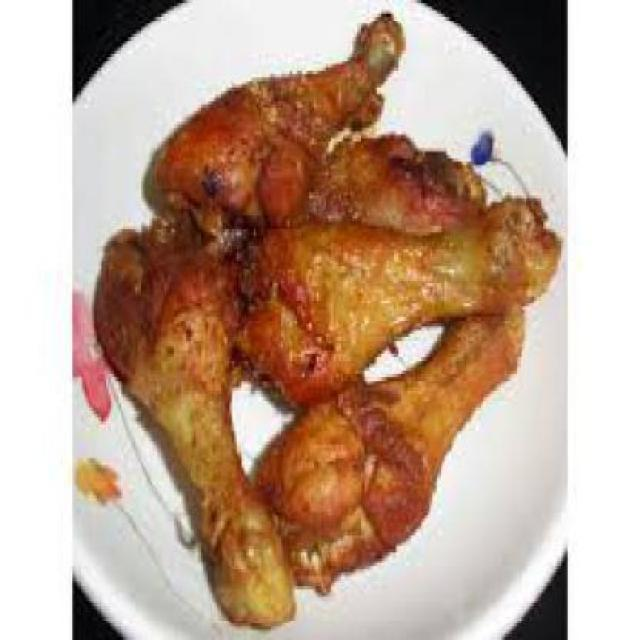Wet Waste: (92, 220, 292, 631), (256, 300, 522, 595), (242, 189, 556, 394), (151, 11, 409, 223), (263, 142, 479, 232)
